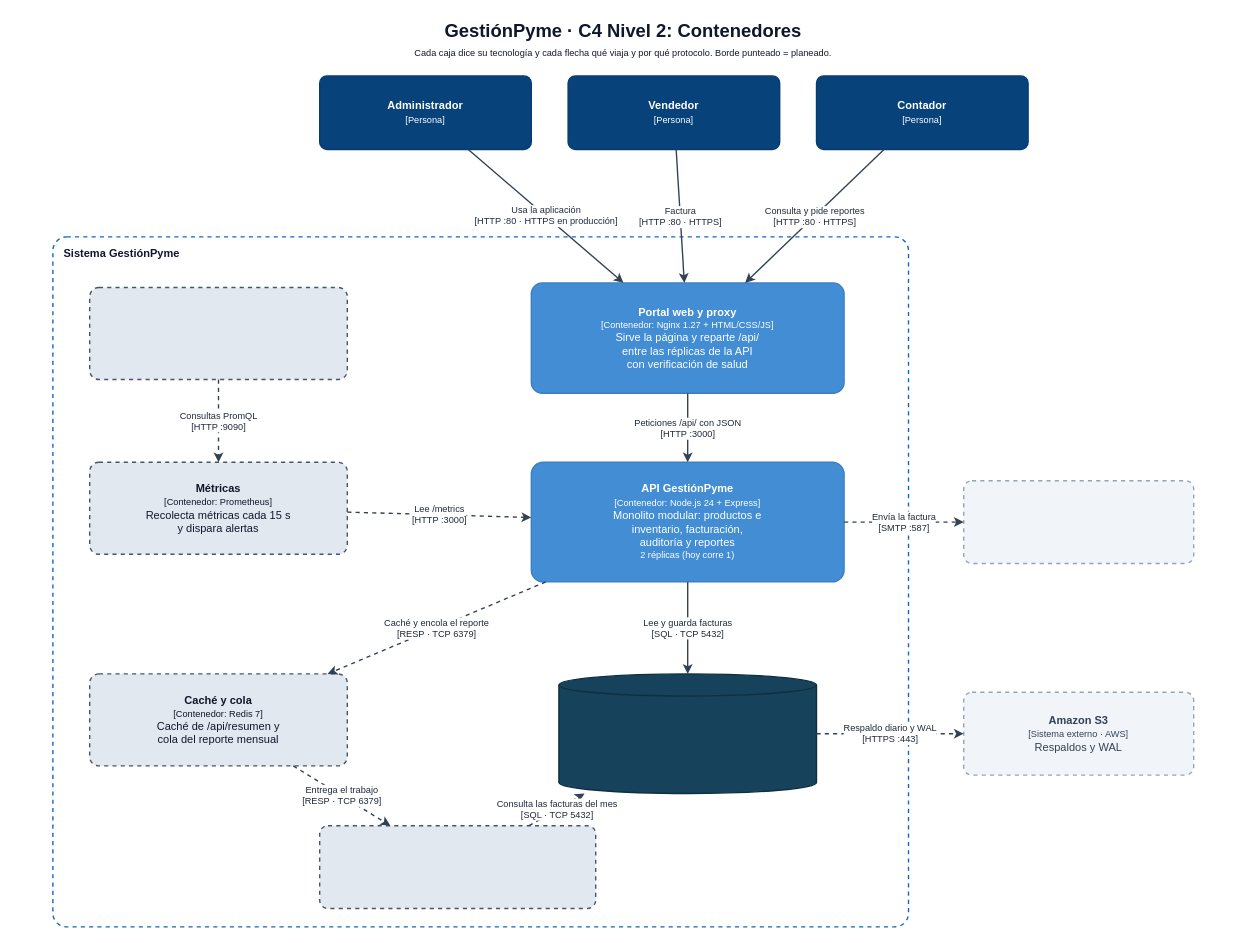
This 1246x943 diagram has some shape labels left out. Here are the shapes that lost their labels. From the top down, the centre of each, then its label:
At pixel 218 333: "Tablero [Contenedor: Grafana] 4 paneles: req/s, p95, errores, CPU y memoria".
At pixel 1078 522: "Servicio de correo [Sistema externo · opcional]".
At pixel 687 733: "Base de datos [Contenedor: PostgreSQL 17] Productos, facturas y auditoría".
At pixel 457 867: "Worker de reportes [Contenedor: Node.js 24] Genera el reporte mensual".
